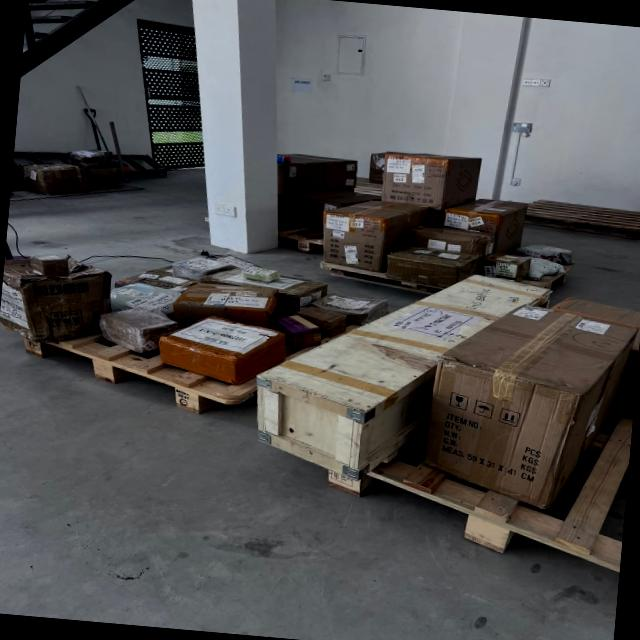carton_box: (430, 279, 637, 511)
wooden_box: (255, 260, 454, 470)
